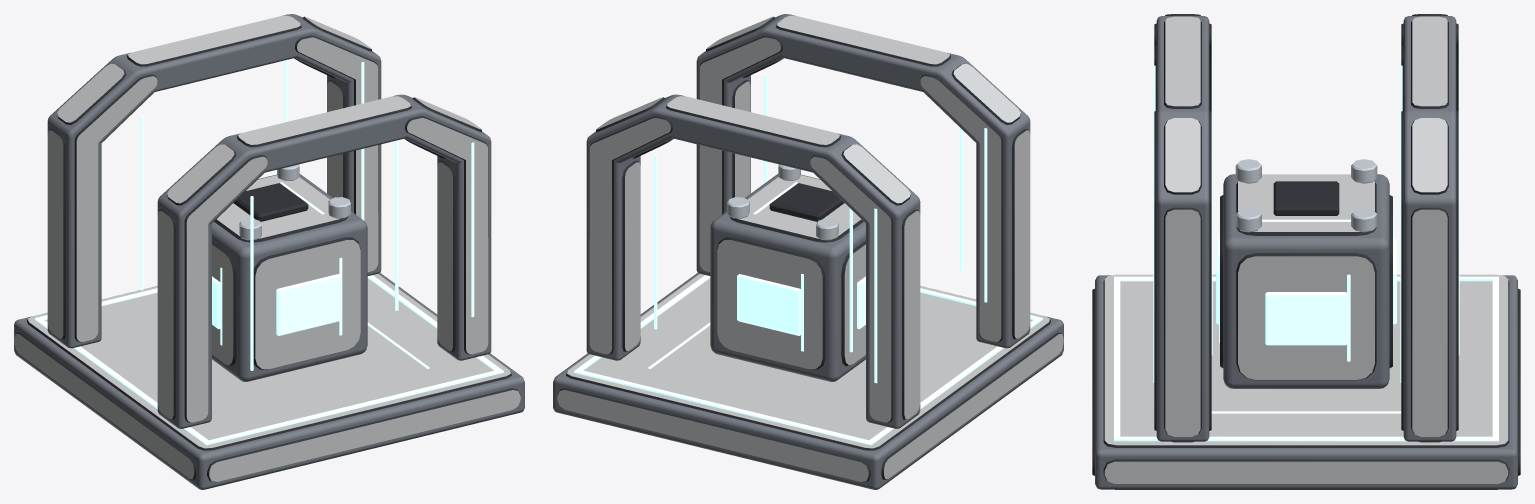
File: R4X_ModuleDurabilityBooster.fbx
The picture shows the model from 3 angles, left to right: view 1: azimuth 30°, elevation 25°; view 2: azimuth 150°, elevation 25°; view 3: azimuth 270°, elevation 25°; orthographic projection. The views are drawn at different scales.
Parts seen in each view (by area): view 1: R4X_ModuleDurabilityBooster_Body; view 2: R4X_ModuleDurabilityBooster_Body; view 3: R4X_ModuleDurabilityBooster_Body.
Boxes of the visible parts, box(x1,y1,x2,y2) form: R4X_ModuleDurabilityBooster_Body: box(14, 14, 524, 489); R4X_ModuleDurabilityBooster_Body: box(553, 14, 1063, 489); R4X_ModuleDurabilityBooster_Body: box(1092, 14, 1520, 489).
Bounding box in the file's own units: 0.52 × 0.46 × 0.52.
